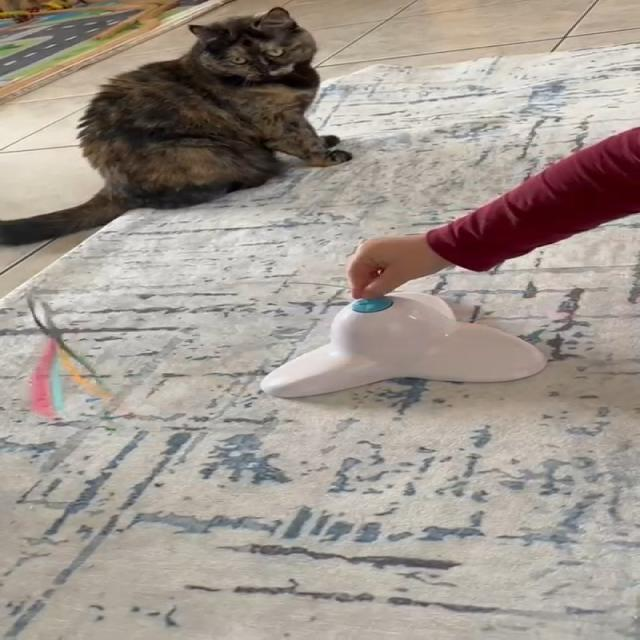authorized: (0, 6, 352, 246)
